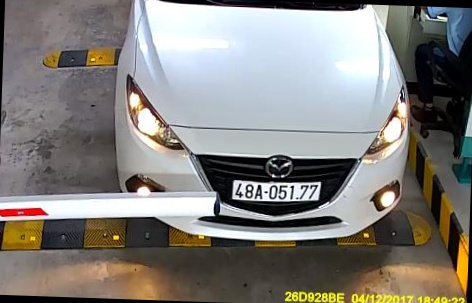plate: (225, 176, 320, 204)
